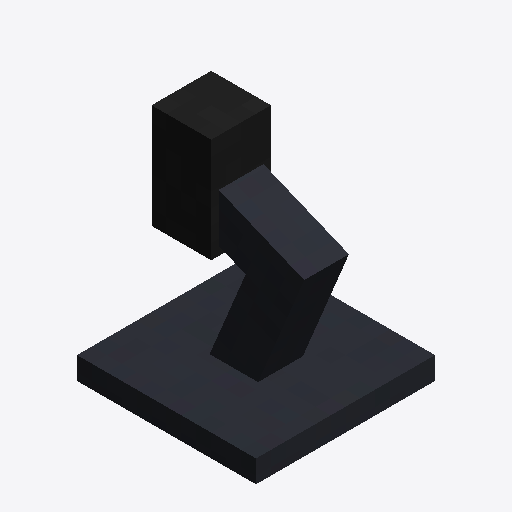
Isometric view (azimuth 45°, elevation 35.3°) of a Minecraft model made of 4 cuboids, textured from the same repository.
Visible parts, largest first — element 1, element 4, element 3, element 2.
Boxes of the visible parts, x1,y1,x2,y2 form: element 1: [77, 264, 434, 483]; element 4: [152, 71, 270, 259]; element 3: [219, 164, 348, 317]; element 2: [210, 275, 331, 381].
Size of the model in its own units: 12 by 14.5 by 12.